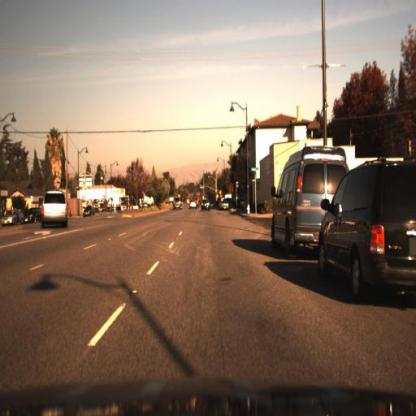car: (318, 153, 416, 306), (269, 146, 319, 257), (40, 190, 69, 228), (197, 194, 213, 214), (81, 203, 97, 222), (172, 193, 184, 218), (219, 198, 232, 215), (188, 198, 200, 214)
